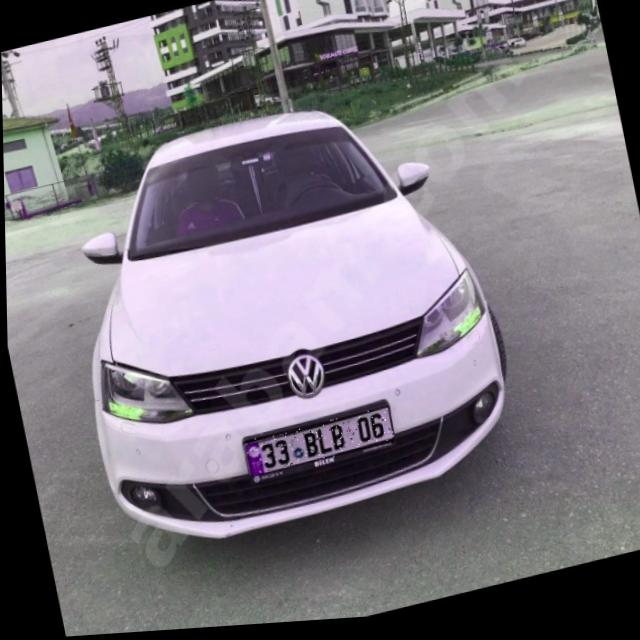license_plate: (240, 410, 393, 480)
